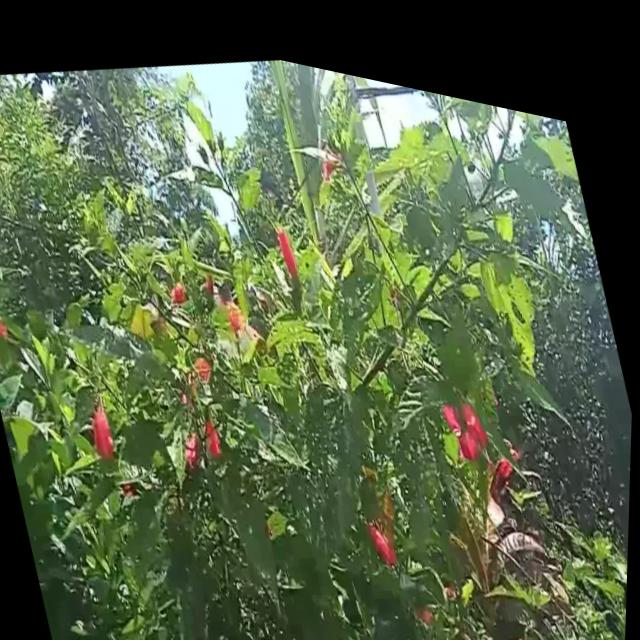Flower: (439, 366, 497, 454), (270, 208, 309, 276), (85, 390, 124, 454), (364, 495, 403, 556), (198, 400, 227, 450)
